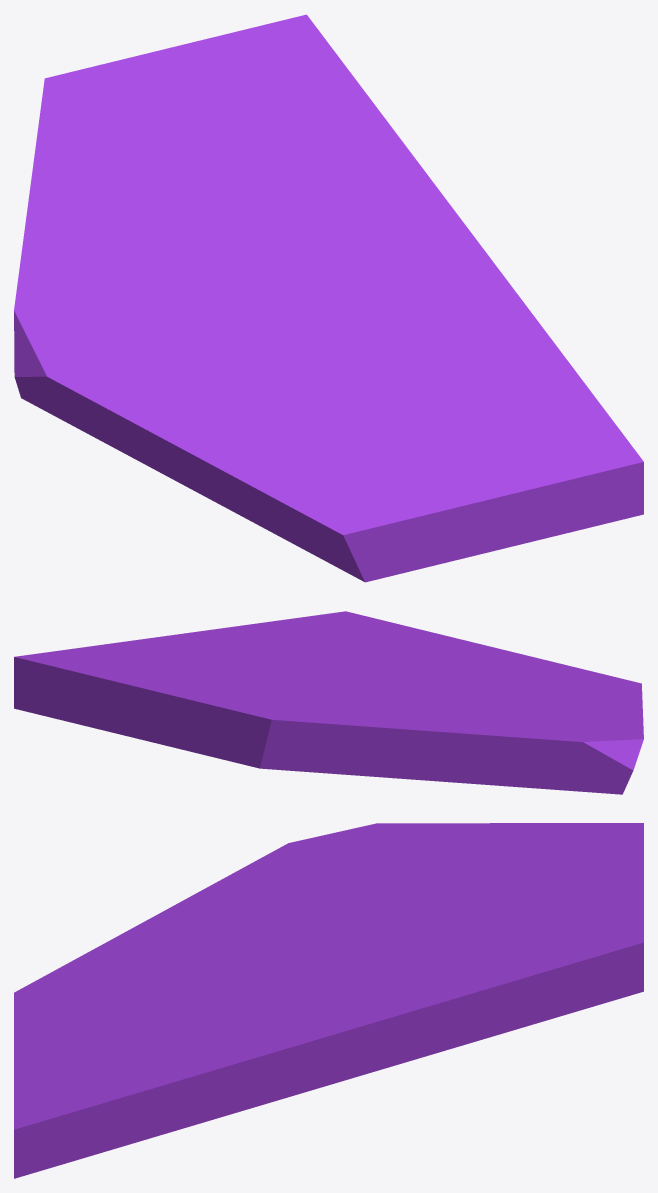
File: Window_147_2_chunks.fbx
3 renders of one model, top to bottom at view 1: azimuth 30°, elevation 25°; view 2: azimuth 150°, elevation 25°; view 3: azimuth 270°, elevation 25°, orthographic. The views are drawn at different scales.
Parts seen in each view (by area): view 1: Window_147_2_0, Window_147_2_5, Window_147_2_26, Window_147_2_4, Window_147_2_7, Window_147_2_18, Window_147_2_13, Window_147_2_19, Window_147_2_27, Window_147_2_8, Window_147_2_9, Window_147_2_3 (+13 smaller); view 2: Window_147_2_8, Window_147_2_9, Window_147_2_1, Window_147_2_0, Window_147_2_12, Window_147_2_5, Window_147_2_13, Window_147_2_10, Window_147_2_4, Window_147_2_7, Window_147_2_18, Window_147_2_19 (+12 smaller); view 3: Window_147_2_13, Window_147_2_18, Window_147_2_0, Window_147_2_4, Window_147_2_5, Window_147_2_19, Window_147_2_7, Window_147_2_27, Window_147_2_8, Window_147_2_9, Window_147_2_3, Window_147_2_2 (+14 smaller).
Boxes of the visible parts, x1,y1,x2,y2 form: Window_147_2_0: [19, 281, 288, 451]; Window_147_2_5: [86, 361, 385, 558]; Window_147_2_26: [328, 458, 561, 582]; Window_147_2_4: [308, 174, 518, 296]; Window_147_2_7: [278, 327, 577, 424]; Window_147_2_18: [373, 330, 623, 435]; Window_147_2_13: [266, 14, 426, 173]; Window_147_2_19: [342, 258, 554, 344]; Window_147_2_27: [436, 420, 643, 491]; Window_147_2_8: [25, 73, 117, 226]; Window_147_2_9: [65, 45, 197, 142]; Window_147_2_3: [25, 163, 184, 288]; Window_147_2_8: [252, 707, 470, 776]; Window_147_2_9: [125, 687, 302, 771]; Window_147_2_1: [474, 712, 634, 794]; Window_147_2_0: [404, 682, 643, 765]; Window_147_2_12: [22, 666, 185, 735]; Window_147_2_5: [463, 666, 642, 712]; Window_147_2_13: [14, 640, 166, 710]; Window_147_2_10: [369, 712, 495, 784]; Window_147_2_4: [133, 628, 295, 669]; Window_147_2_7: [339, 623, 474, 684]; Window_147_2_18: [259, 614, 394, 664]; Window_147_2_19: [223, 623, 360, 665]; Window_147_2_13: [419, 924, 643, 1043]; Window_147_2_18: [51, 995, 297, 1151]; Window_147_2_0: [159, 831, 349, 953]; Window_147_2_4: [247, 954, 429, 1070]; Window_147_2_5: [14, 914, 244, 1005]; Window_147_2_19: [179, 975, 337, 1094]; Window_147_2_7: [82, 949, 276, 1095]; Window_147_2_27: [14, 1029, 119, 1142]; Window_147_2_8: [473, 823, 643, 861]; Window_147_2_9: [538, 832, 643, 898]; Window_147_2_3: [368, 824, 501, 894]; Window_147_2_2: [347, 879, 517, 920].
Bounding box in the file's own units: 919 × 482 × 1165.
